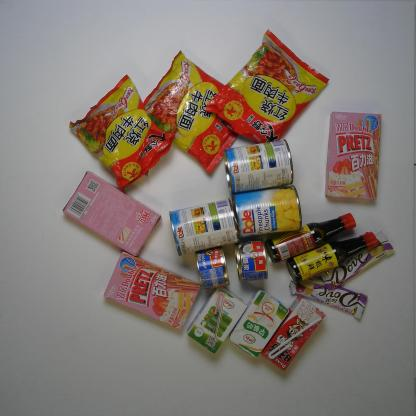Canned Food: (169, 192, 238, 258), (222, 136, 299, 194), (232, 183, 304, 239), (233, 238, 272, 282), (196, 245, 232, 292)
Chocolate: (284, 270, 368, 322), (319, 230, 394, 288)
Dessert: (59, 171, 163, 259), (97, 246, 202, 332), (325, 108, 386, 202)
Instant Noodles: (204, 28, 331, 148), (141, 50, 254, 175), (68, 73, 177, 195)
Milk: (260, 294, 328, 371), (186, 286, 249, 356), (229, 288, 290, 360)
Seasoner: (288, 229, 380, 284), (267, 210, 359, 263)
